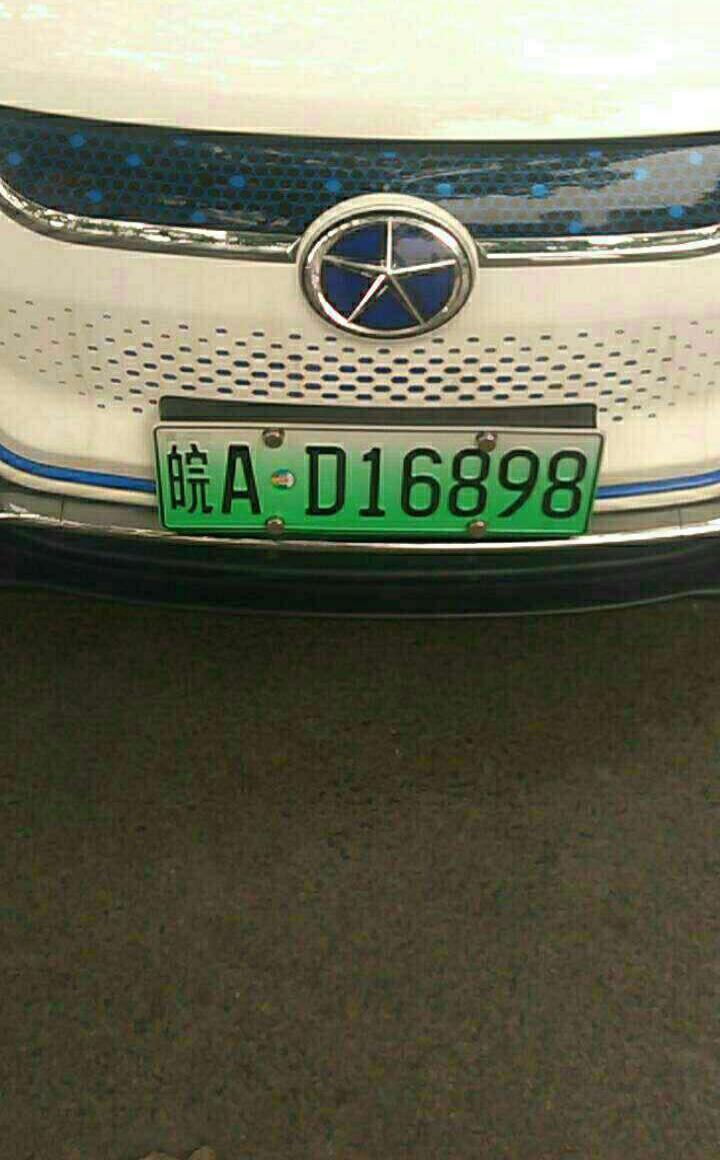car_id: (151, 431, 601, 534)
